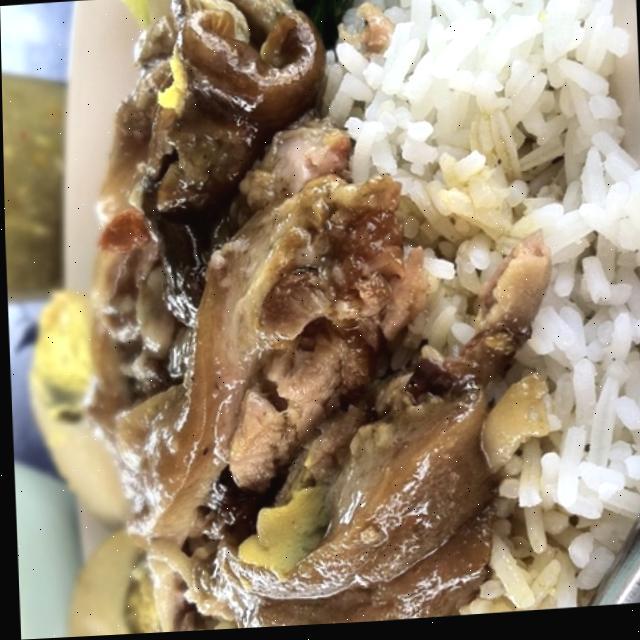猪肉菜式: (14, 0, 639, 639)
